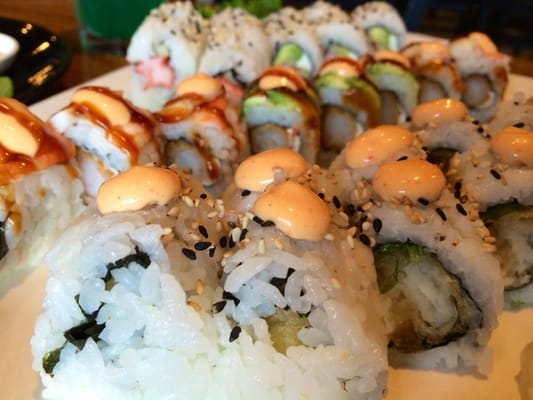pizza: (73, 0, 174, 54)
